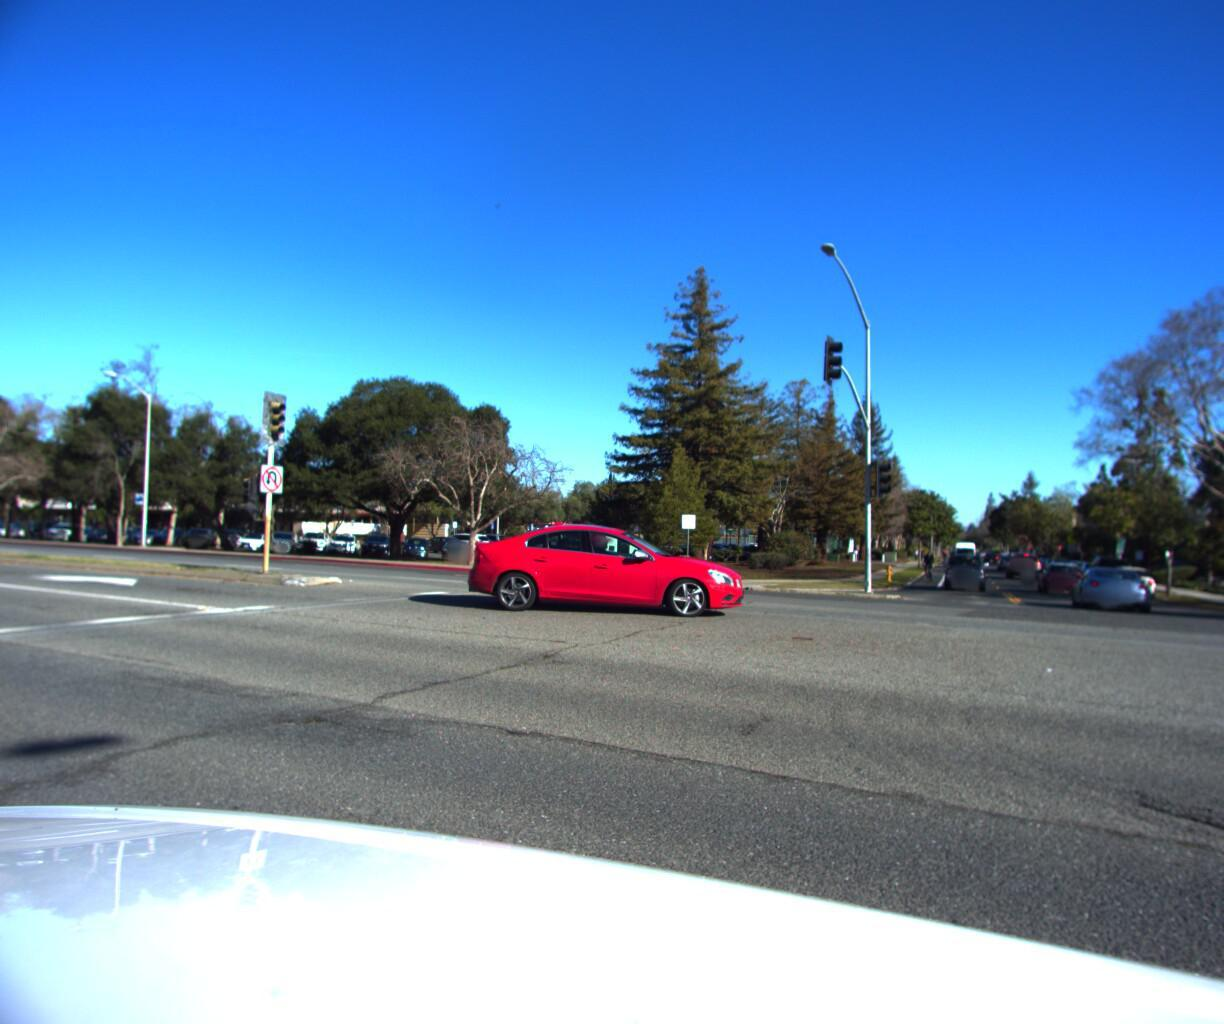bicycle: (914, 552, 935, 584)
car: (453, 520, 746, 619), (1064, 556, 1153, 618), (1097, 557, 1158, 598), (1033, 554, 1085, 595), (939, 544, 986, 588), (1006, 546, 1044, 579), (952, 543, 973, 562)
